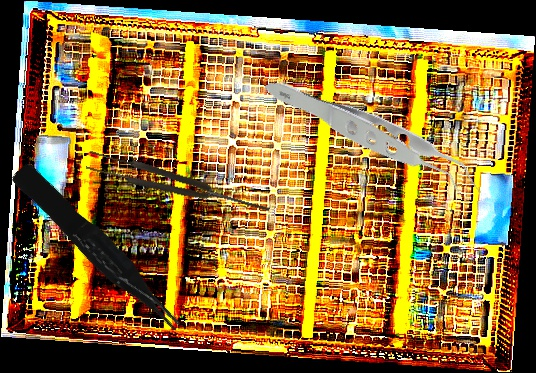Tissue Forceps: (263, 18, 484, 263), (9, 154, 186, 345), (84, 148, 273, 222)
